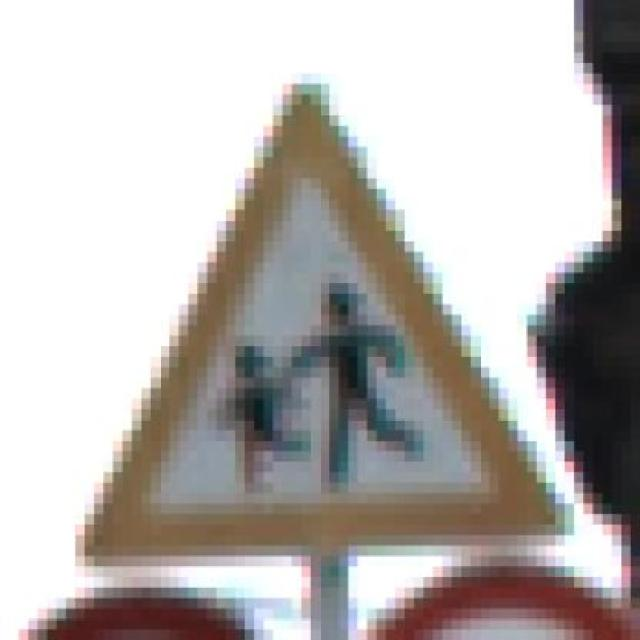Beware of children: (66, 62, 574, 567)
